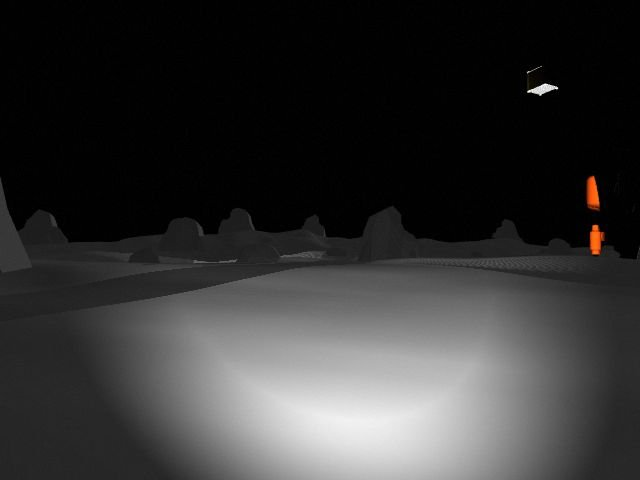cubesat: (521, 61, 567, 105)
